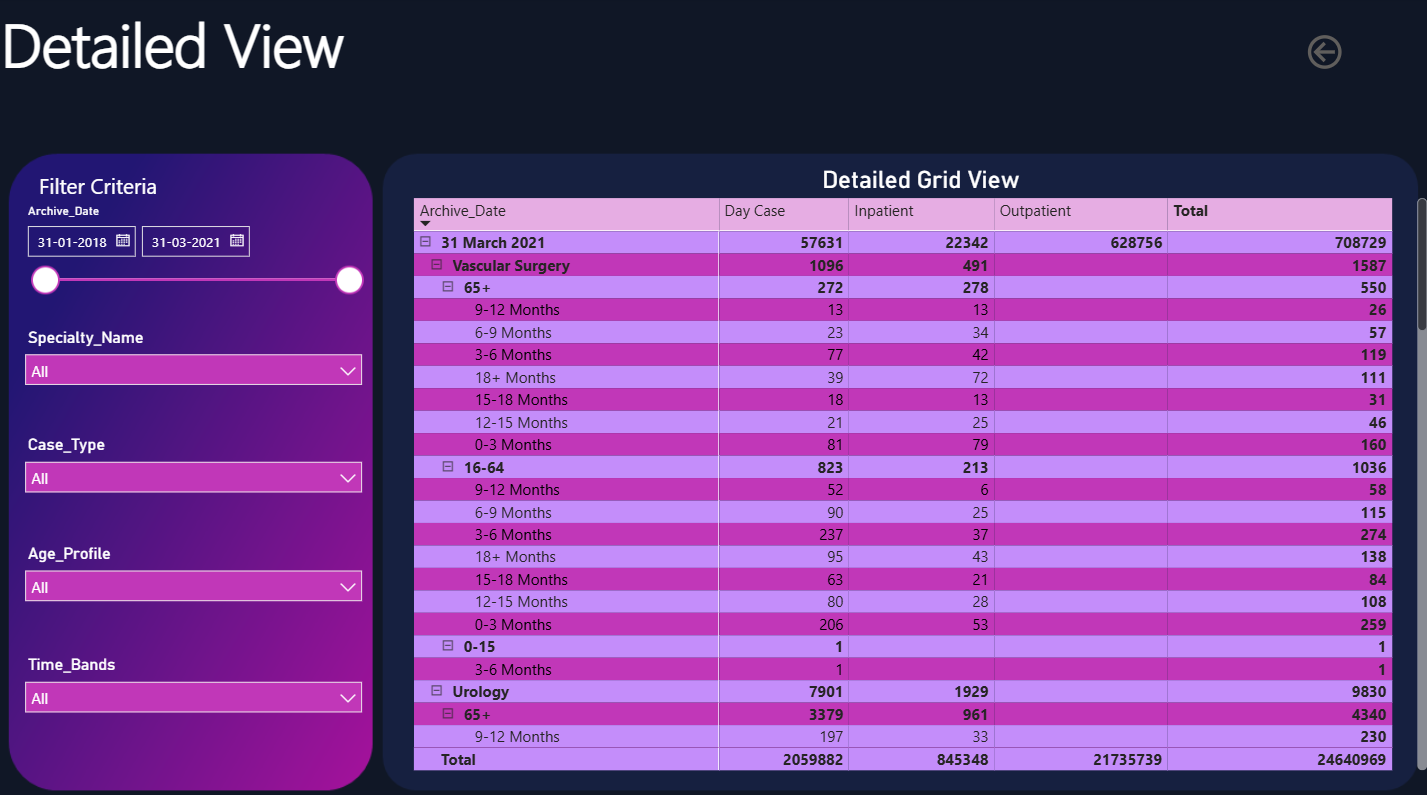

Layout of this report page (visuals, bound fields, positions):
{"tool":"powerbi","page":{"name":"Detail","canvas":[1280,720],"ordinal":1},"visuals":[{"type":"slicer","fields":{"Values":["All Data.Archive_Date"]},"box":[15.7,178.8,320.4,111.6],"z":0},{"type":"slicer","fields":{"Values":["All Data.Specialty_Name"]},"box":[15.7,288.9,320.4,95.8],"z":1000},{"type":"slicer","fields":{"Values":["All Data.Case_Type"]},"box":[15.7,384.7,320.4,95.8],"z":2000},{"type":"textbox","title":"Summary","box":[0,0,352,96],"z":3000},{"type":"slicer","fields":{"Values":["All Data.Age_Profile"]},"box":[15.7,482,320.4,97.3],"z":4000},{"type":"slicer","fields":{"Values":["All Data.Time_Bands"]},"box":[15.7,580.6,320.4,95.8],"z":5000},{"type":"pivotTable","title":"Detailed Grid View","fields":{"Rows":["All Data.Archive_Date","All Data.Specialty_Name","All Data.Age_Profile","All Data.Time_Bands"],"Columns":["All Data.Case_Type"],"Values":["Sum(All Data.Total)"]},"box":[367.6,150.2,912.4,543.5],"z":6000},{"type":"textbox","box":[32.9,150.2,154.5,38.6],"z":7000},{"type":"actionButton","box":[1162.7,28.6,78.7,40],"z":8000}]}

Visuals, with their boxes in screenshot pixels (x1, y1, x2, y2), scaled from the page's 1280x720 canvas onto the 1427x795 screenshot:
slicer - All Data.Archive_Date: crop(18, 197, 375, 321)
slicer - All Data.Specialty_Name: crop(18, 319, 375, 425)
slicer - All Data.Case_Type: crop(18, 425, 375, 531)
"Summary" textbox: crop(0, 0, 392, 106)
slicer - All Data.Age_Profile: crop(18, 532, 375, 640)
slicer - All Data.Time_Bands: crop(18, 641, 375, 747)
"Detailed Grid View" pivotTable: crop(410, 166, 1426, 766)
textbox: crop(37, 166, 209, 208)
actionButton: crop(1296, 32, 1384, 76)
